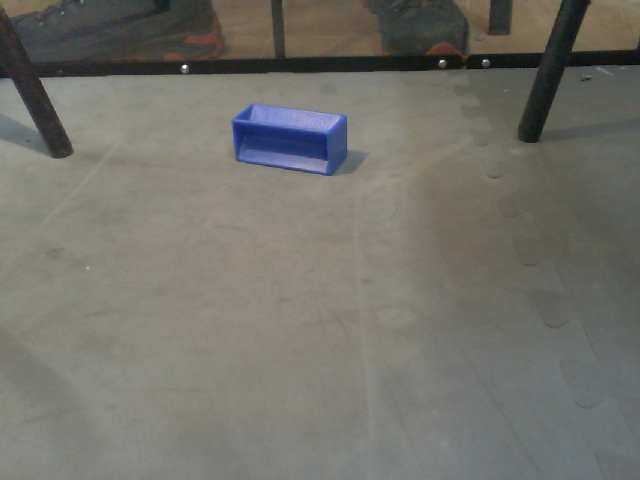BlueSample: (229, 101, 353, 183)
